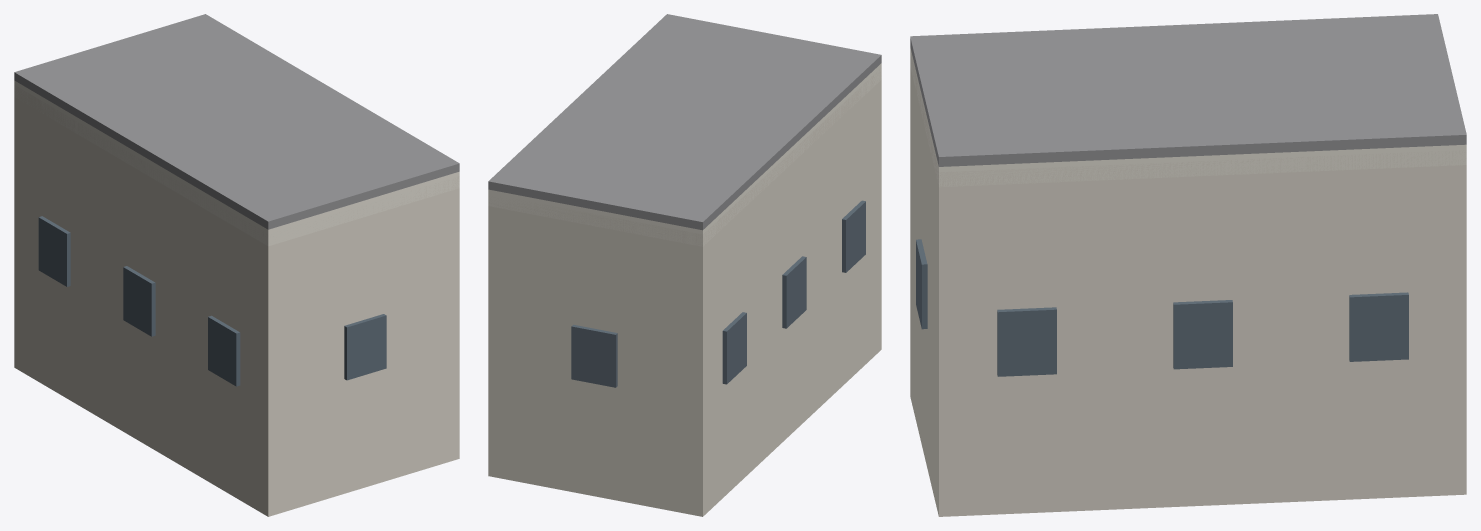
File: s31_gis_248030_820646.glb
The picture shows the model from 3 angles, left to right: view 1: azimuth 30°, elevation 25°; view 2: azimuth 150°, elevation 25°; view 3: azimuth 270°, elevation 25°; orthographic projection. The views are drawn at different scales.
Parts seen in each view (by area): view 1: mass, roofcap, cornice, win_2_0_0, win_1_0_2, win_1_0_1, win_1_0_0; view 2: mass, roofcap, cornice, win_0_0_0, win_1_0_0, win_1_0_1, win_1_0_2; view 3: mass, roofcap, cornice, win_3_0_0, win_3_0_2, win_3_0_1, win_2_0_0.
Part boxes in pixels (left/top/right/bottom): mass: left=14, top=85, right=459, bottom=516; roofcap: left=14, top=14, right=459, bottom=229; cornice: left=14, top=80, right=459, bottom=246; win_2_0_0: left=344, top=314, right=386, bottom=380; win_1_0_2: left=208, top=315, right=240, bottom=386; win_1_0_1: left=123, top=266, right=155, bottom=336; win_1_0_0: left=38, top=216, right=70, bottom=286; mass: left=488, top=68, right=881, bottom=516; roofcap: left=488, top=14, right=881, bottom=230; cornice: left=488, top=63, right=881, bottom=246; win_0_0_0: left=571, top=324, right=617, bottom=387; win_1_0_0: left=722, top=312, right=746, bottom=384; win_1_0_1: left=782, top=256, right=806, bottom=328; win_1_0_2: left=842, top=200, right=865, bottom=272; mass: left=910, top=59, right=1466, bottom=516; roofcap: left=910, top=14, right=1466, bottom=166; cornice: left=910, top=48, right=1466, bottom=187; win_3_0_0: left=997, top=307, right=1056, bottom=376; win_3_0_2: left=1349, top=292, right=1408, bottom=361; win_3_0_1: left=1173, top=300, right=1232, bottom=369; win_2_0_0: left=916, top=239, right=927, bottom=329.
Size of the model in its own units: 7.12 by 8.35 by 11.7.
